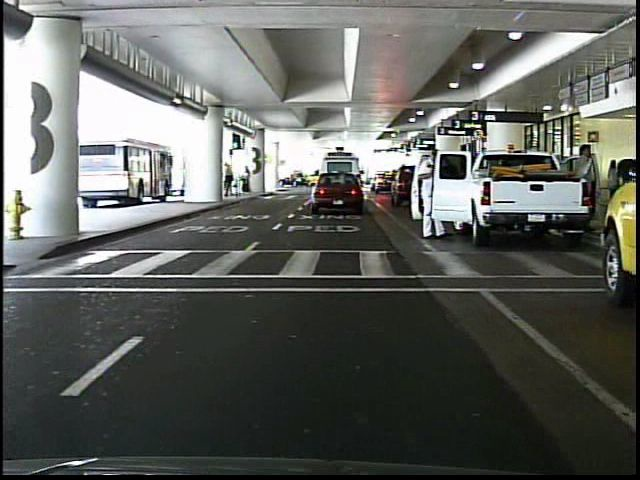person: (415, 142, 451, 243), (567, 140, 601, 224), (223, 160, 236, 198), (240, 164, 255, 195)
